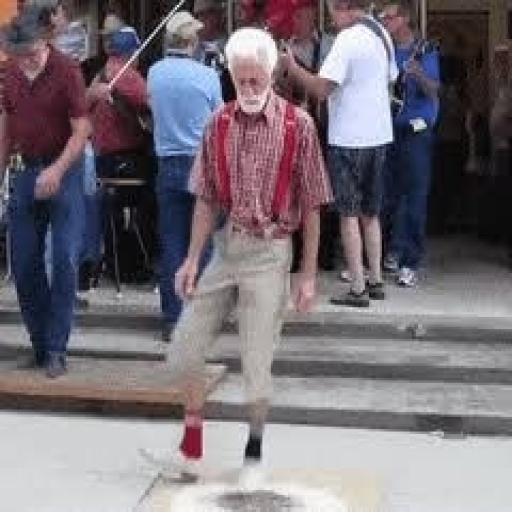dancing: (156, 24, 337, 476)
